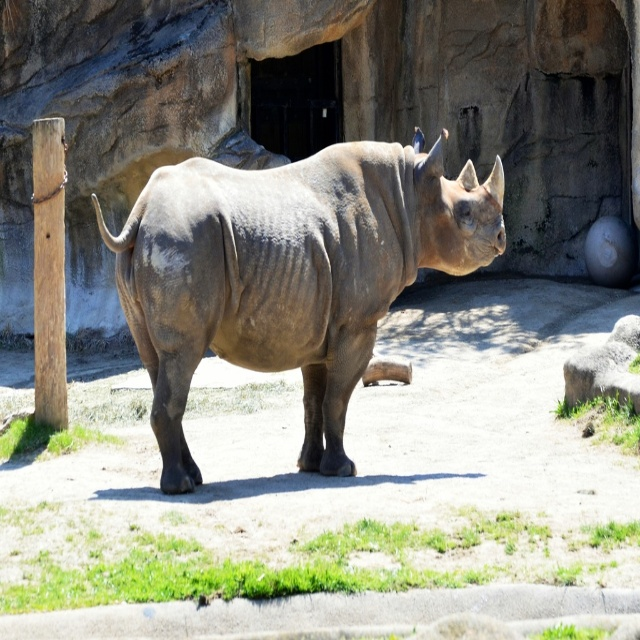Rhinoceros: (87, 123, 513, 497)
